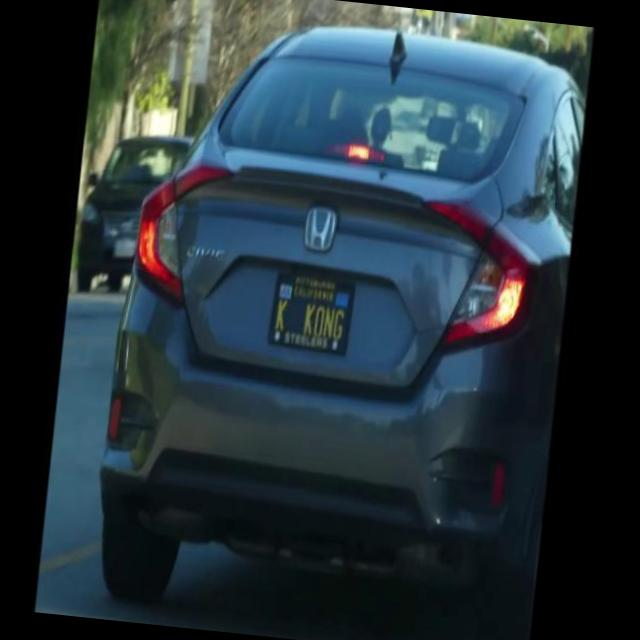LicensePlate: (268, 266, 354, 359)
